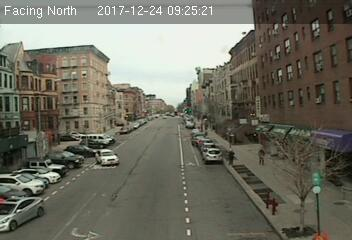car: (93, 148, 119, 166), (202, 148, 222, 163)
pedestrian: (257, 146, 266, 167), (227, 148, 236, 165)
